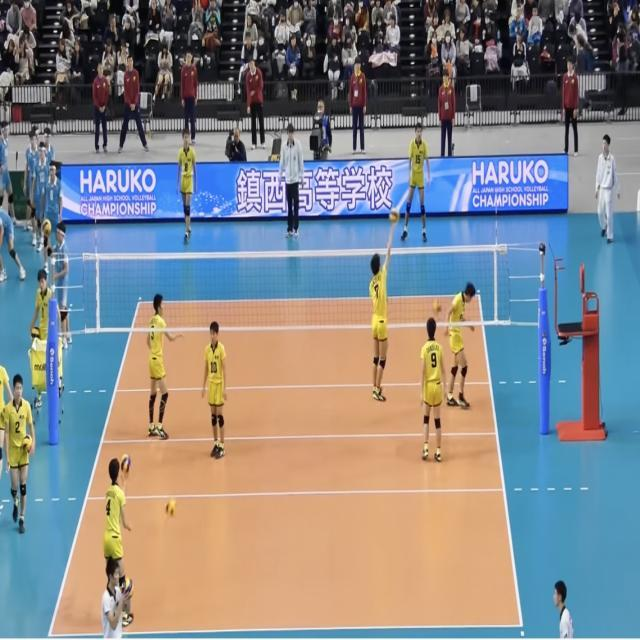spike: (367, 205, 402, 413)
